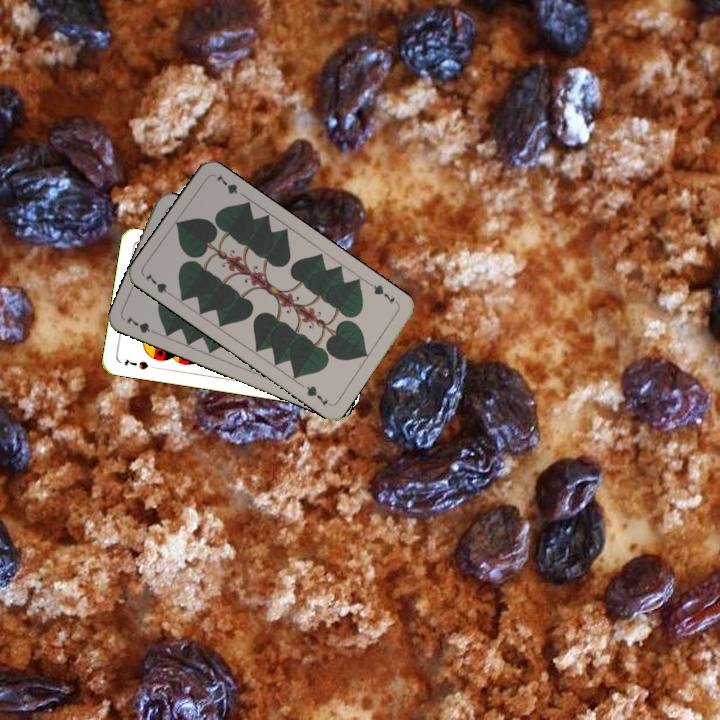G7: (141, 270, 177, 300), (366, 279, 401, 308), (122, 312, 161, 337)
S7: (120, 355, 151, 372)
